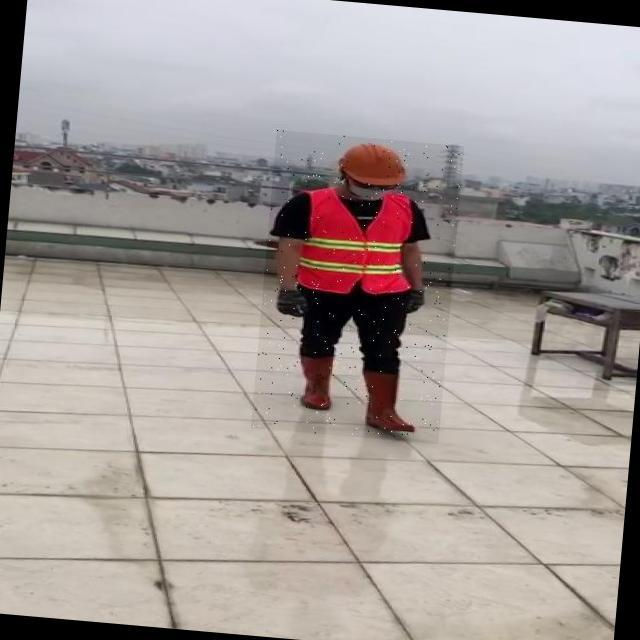Gloves: (273, 287, 309, 317), (405, 289, 427, 318)
Helmet: (333, 137, 415, 190)
Human: (251, 130, 464, 444)
Safety Boot: (359, 368, 423, 434), (290, 349, 341, 412)
Safety Vest: (291, 186, 418, 296)
